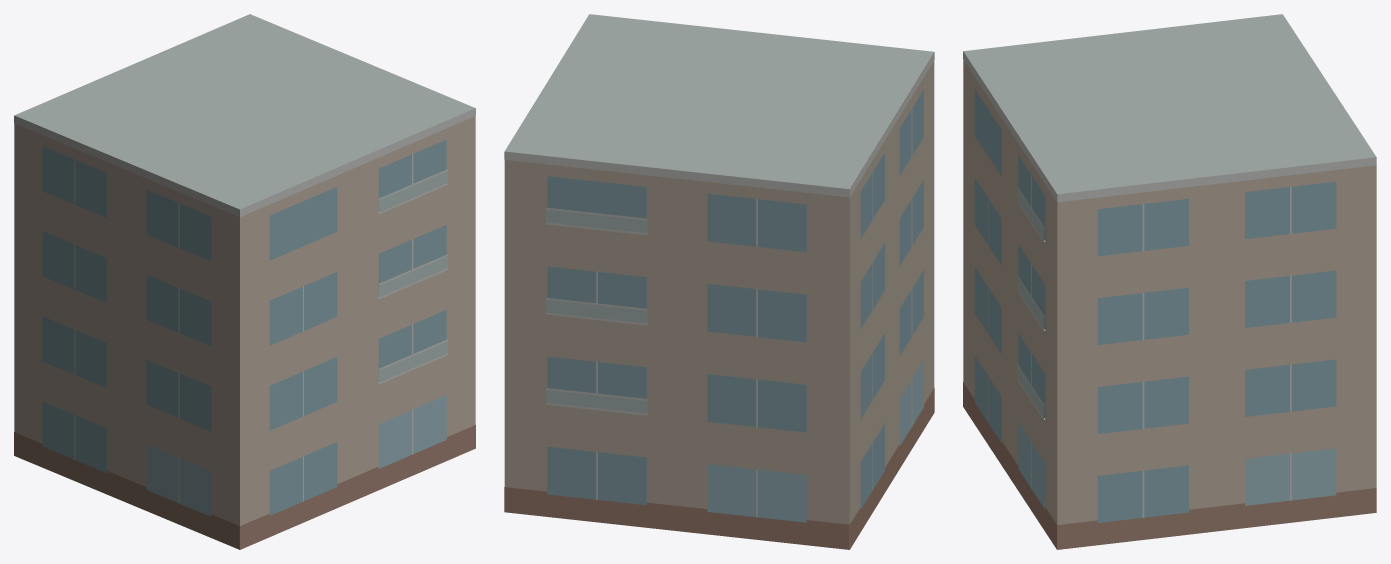
Rendered from survey-upis-32712043.glb.
The picture shows the model from 3 angles, left to right: view 1: azimuth 30°, elevation 25°; view 2: azimuth 150°, elevation 25°; view 3: azimuth 270°, elevation 25°; orthographic projection. The views are drawn at different scales.
Visible parts, largest first — view 1: survey-upis-32712043.tmp; view 2: survey-upis-32712043.tmp; view 3: survey-upis-32712043.tmp.
Part boxes in pixels (bbox=[...]): survey-upis-32712043.tmp: bbox=[14, 14, 475, 549]; survey-upis-32712043.tmp: bbox=[504, 14, 934, 549]; survey-upis-32712043.tmp: bbox=[963, 14, 1376, 549].
Size of the model in its own units: 11.64 by 10.7 by 11.29.
